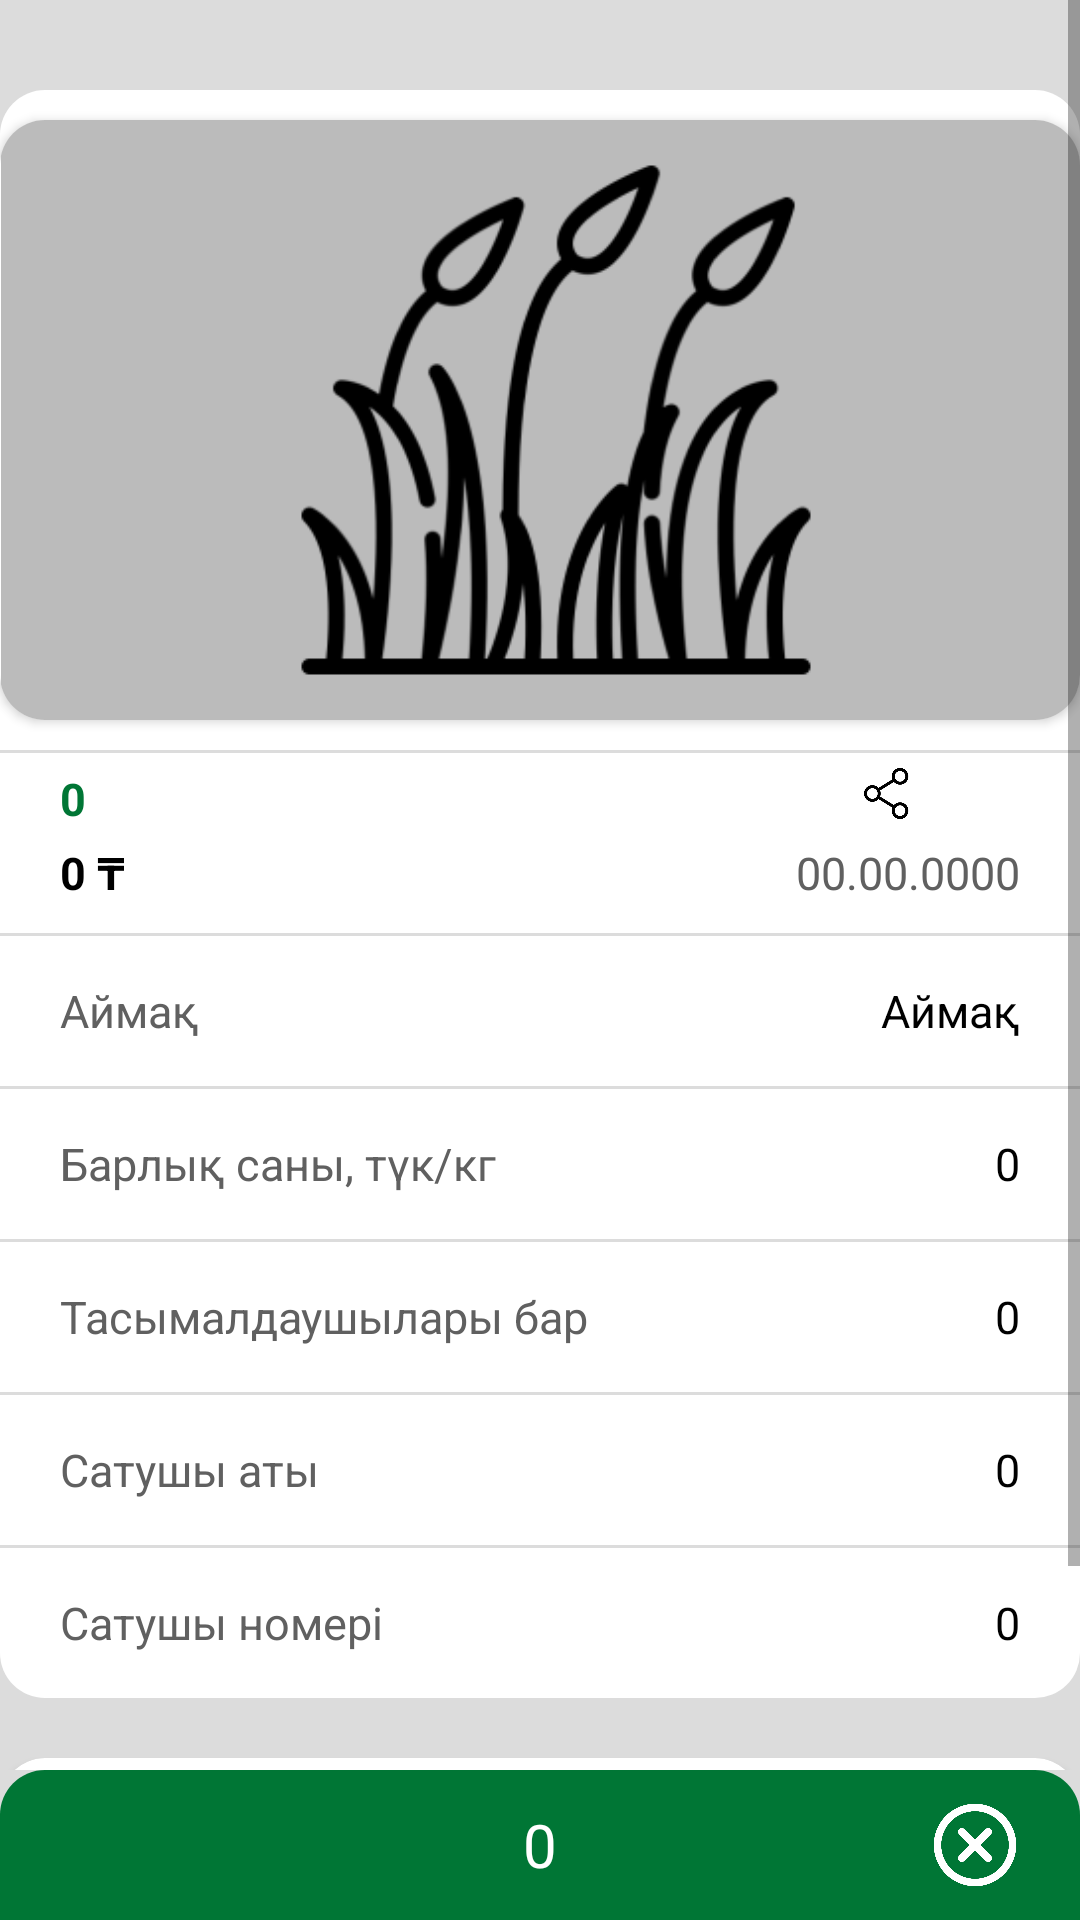

Icon click points for this 1080px×1920px phone screenshot, format (x=x, y=y):
share: (x=886, y=793)
